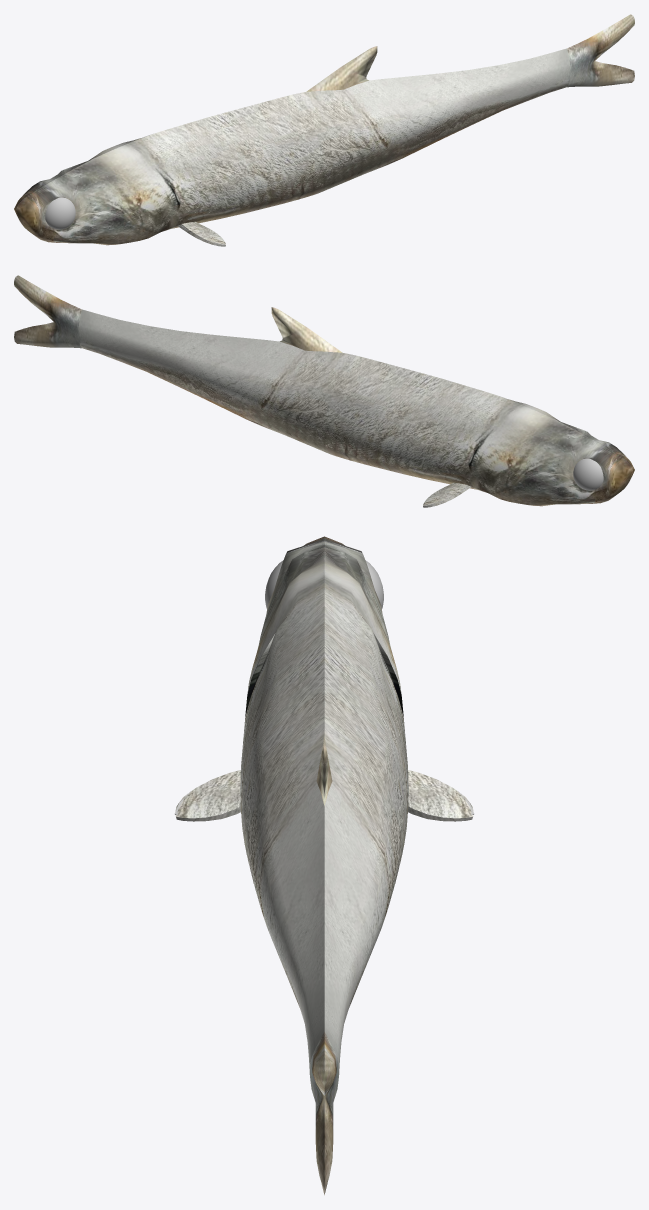
The model's file is Anchovy.FBX.
3 renders of one model, top to bottom at view 1: azimuth 30°, elevation 25°; view 2: azimuth 150°, elevation 25°; view 3: azimuth 270°, elevation 25°, orthographic. The views are drawn at different scales.
Visible parts, largest first — view 1: Body_Skin_L, Tale_Fin, Dorsal_Fin_Skin, Eye_L, Body_Skin_R; view 2: Body_Skin_R, Tale_Fin, Dorsal_Fin_Skin, Eye_R, Body_Skin_L; view 3: Body_Skin_R, Body_Skin_L, Tale_Fin.
Part boxes in pixels (x1=…): Body_Skin_L: x1=16, y1=48, x2=570, y2=246; Tale_Fin: x1=567, y1=14, x2=634, y2=87; Dorsal_Fin_Skin: x1=307, y1=46, x2=377, y2=91; Eye_L: x1=45, y1=197, x2=75, y2=229; Body_Skin_R: x1=14, y1=135, x2=149, y2=228; Body_Skin_R: x1=78, y1=309, x2=632, y2=507; Tale_Fin: x1=14, y1=275, x2=81, y2=348; Dorsal_Fin_Skin: x1=271, y1=307, x2=341, y2=352; Eye_R: x1=573, y1=458, x2=603, y2=490; Body_Skin_L: x1=499, y1=396, x2=634, y2=489; Body_Skin_R: x1=324, y1=537, x2=473, y2=1074; Body_Skin_L: x1=175, y1=536, x2=324, y2=1074; Tale_Fin: x1=310, y1=1031, x2=338, y2=1195.
Bounding box in the file's own units: 1784 × 362 × 374.
